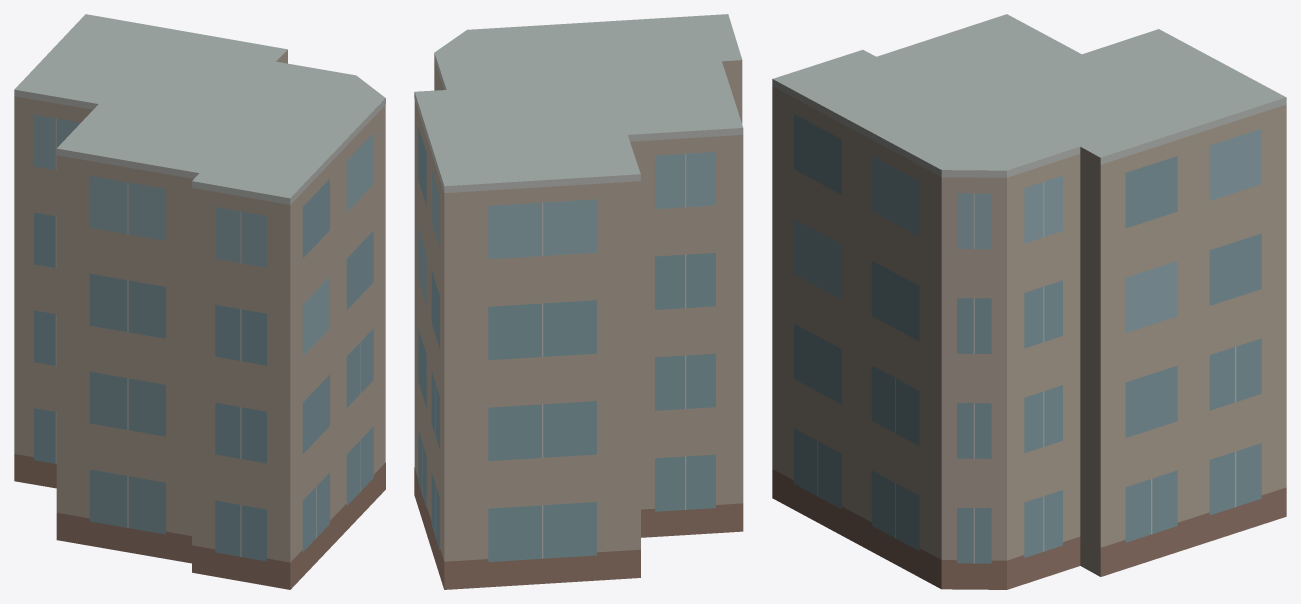
File: survey-upis-32630635.glb
The picture shows the model from 3 angles, left to right: view 1: azimuth 30°, elevation 25°; view 2: azimuth 150°, elevation 25°; view 3: azimuth 270°, elevation 25°; orthographic projection. The views are drawn at different scales.
Parts seen in each view (by area): view 1: survey-upis-32630635.tmp; view 2: survey-upis-32630635.tmp; view 3: survey-upis-32630635.tmp.
Part boxes in pixels (x1,y1,x2,y2): survey-upis-32630635.tmp: [14, 14, 385, 589]; survey-upis-32630635.tmp: [414, 14, 743, 589]; survey-upis-32630635.tmp: [772, 14, 1286, 589].
Size of the model in its own units: 11.47 by 14.3 by 15.9.
